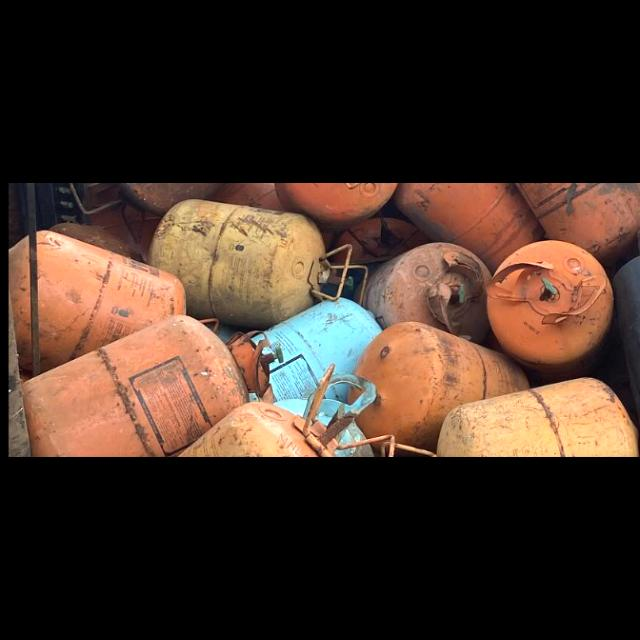Cylinders: (23, 309, 284, 456), (145, 197, 369, 328)
